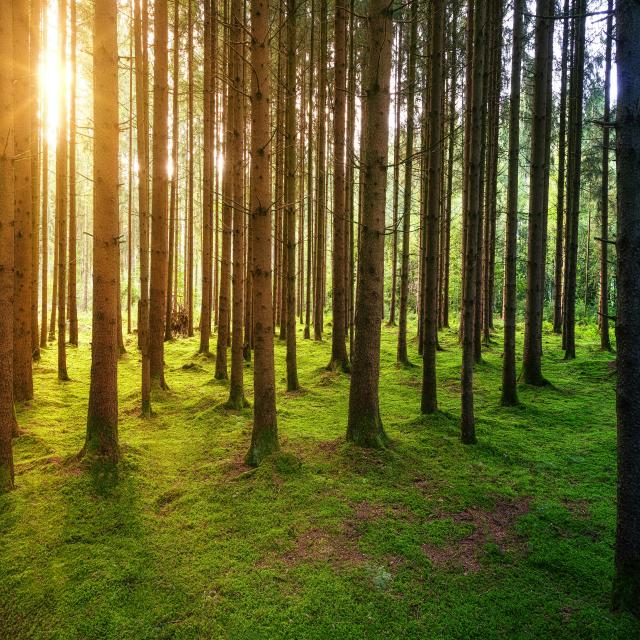Forest: (2, 2, 640, 640)
